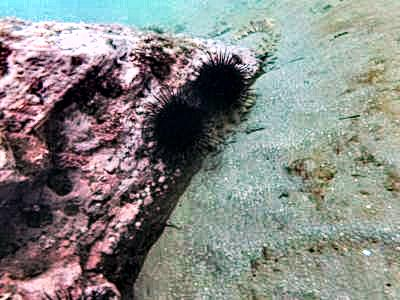urchin: (142, 82, 208, 165), (193, 48, 254, 121)
